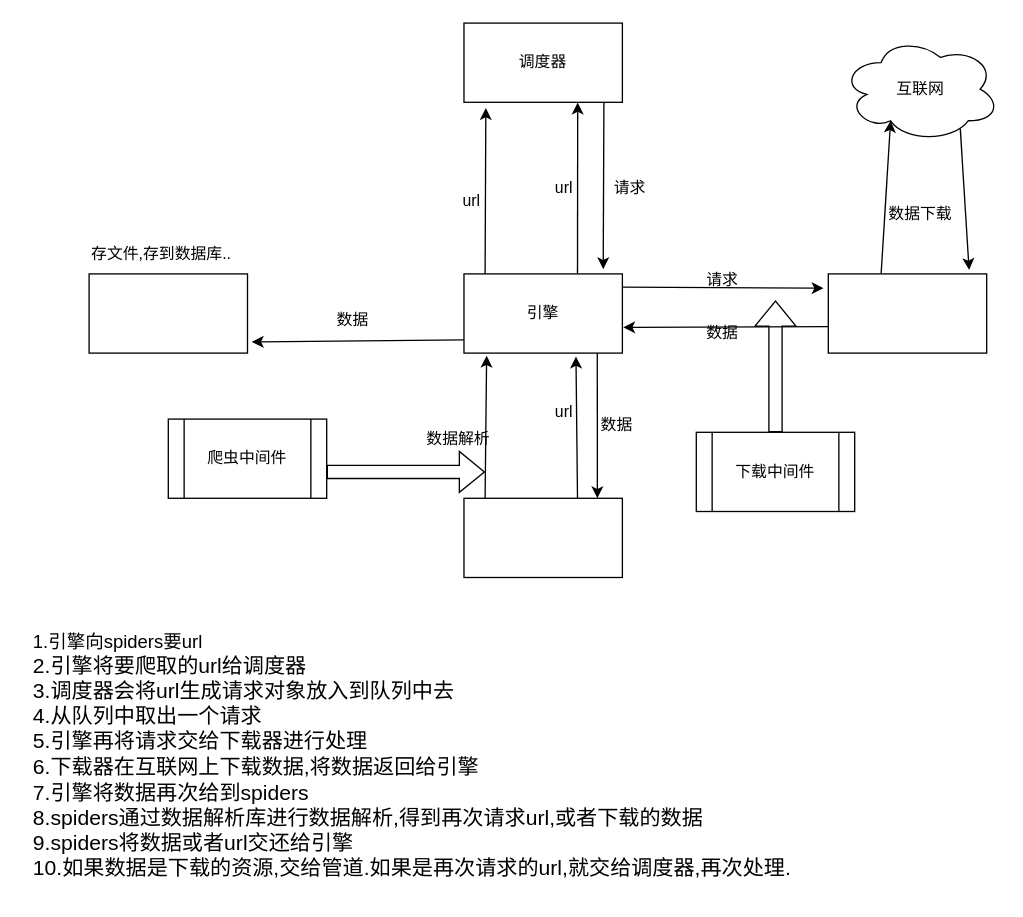
Some shapes in this 1023 by 917 pixel diagram are drawn without their labels. Here are the shapes that lost their labels. From the top down, the centre of each, then its label:
At [168,313]: "管道文件".
At [907,313]: "下载器".
At [542,537]: "spiders爬虫程序".
